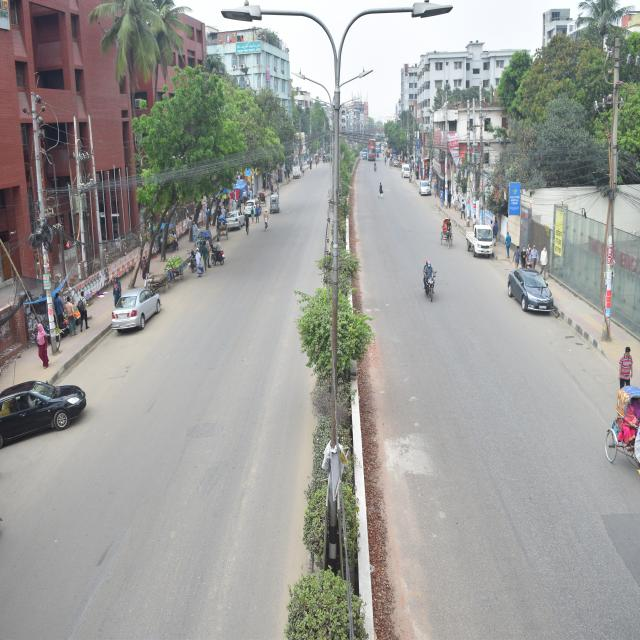bus: (364, 134, 382, 174)
car: (0, 366, 95, 461), (508, 246, 570, 333), (106, 266, 168, 344), (220, 196, 248, 251), (414, 172, 446, 213), (240, 182, 258, 224)
motorbike: (419, 254, 441, 320), (204, 234, 234, 282)
pickup-van: (463, 221, 492, 259), (398, 162, 417, 187)
